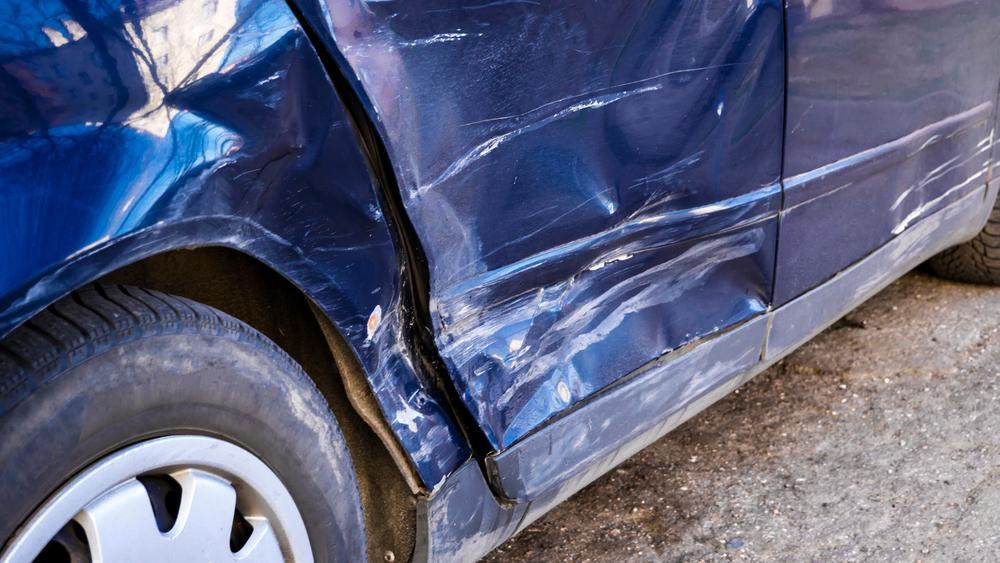dent: (321, 0, 788, 455), (86, 27, 472, 491)
scratch: (887, 134, 989, 237)
